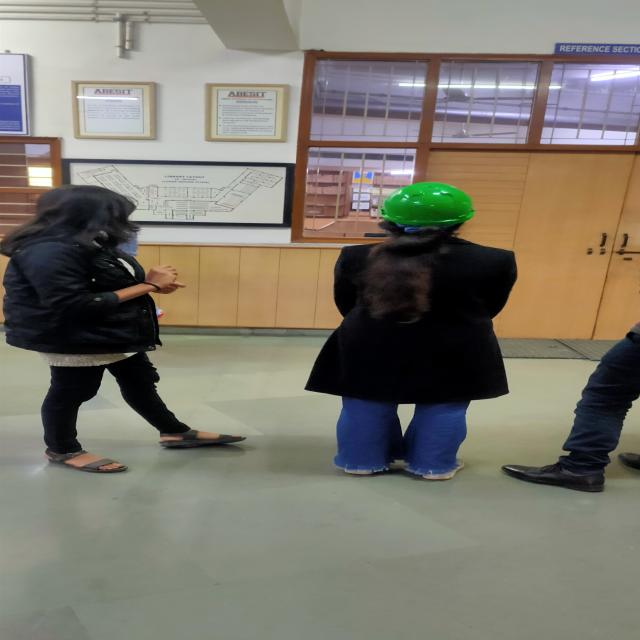no jacket: (302, 182, 520, 479)
unsafe: (2, 185, 247, 474)
